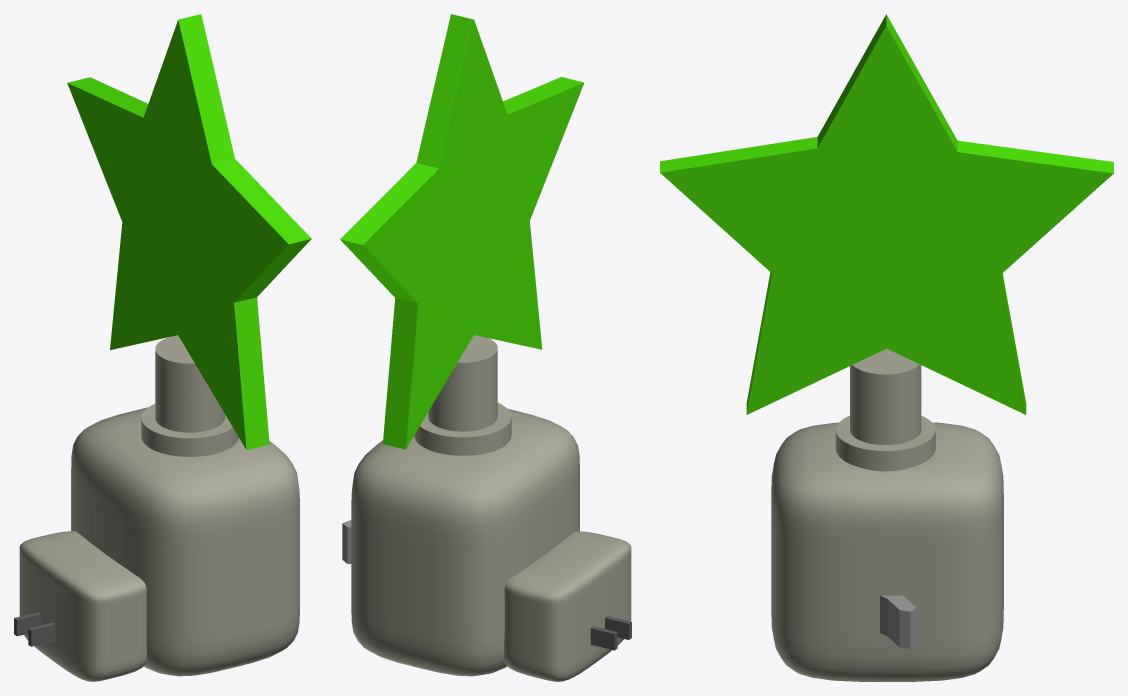
File: GreenEstrellaLamp.fbx
The picture shows the model from 3 angles, left to right: view 1: azimuth 30°, elevation 25°; view 2: azimuth 150°, elevation 25°; view 3: azimuth 270°, elevation 25°; orthographic projection. The views are drawn at different scales.
Parts seen in each view (by area): view 1: Plano.009, Cubo.020, Cubo.019, Cilindro.004, Cubo.016, Cubo.017; view 2: Plano.009, Cubo.020, Cubo.019, Cilindro.004, Cubo.017, Cubo.016; view 3: Plano.009, Cubo.020, Cilindro.004, Cubo.018.
Part boxes in pixels (x1=…): Plano.009: x1=67, y1=14, x2=311, y2=449; Cubo.020: x1=71, y1=407, x2=299, y2=676; Cubo.019: x1=19, y1=531, x2=146, y2=681; Cilindro.004: x1=141, y1=335, x2=238, y2=456; Cubo.016: x1=28, y1=622, x2=55, y2=646; Cubo.017: x1=14, y1=612, x2=40, y2=636; Plano.009: x1=340, y1=14, x2=584, y2=449; Cubo.020: x1=351, y1=409, x2=579, y2=676; Cubo.019: x1=504, y1=531, x2=631, y2=681; Cilindro.004: x1=414, y1=335, x2=511, y2=455; Cubo.017: x1=590, y1=626, x2=617, y2=650; Cubo.016: x1=605, y1=616, x2=631, y2=639; Plano.009: x1=660, y1=14, x2=1113, y2=414; Cubo.020: x1=771, y1=422, x2=1003, y2=681; Cilindro.004: x1=835, y1=348, x2=935, y2=471; Cubo.018: x1=880, y1=595, x2=916, y2=648.
Bounding box in the file's own units: 194 × 424 × 273.
